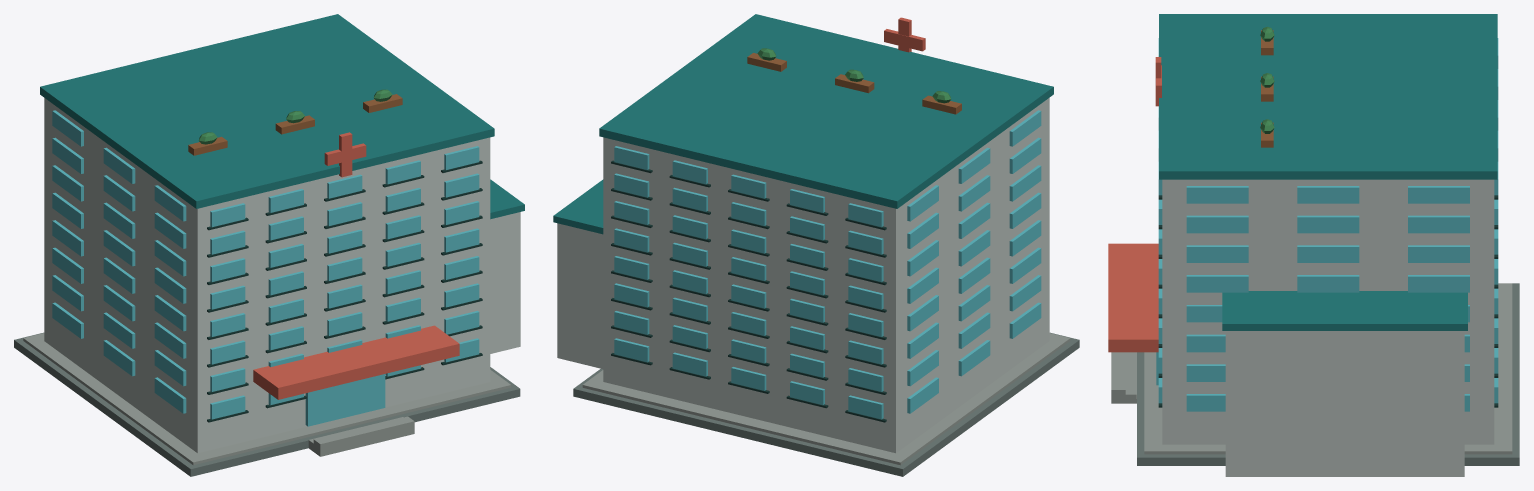
File: hospital_lv3.glb
3 renders of one model, left to right at view 1: azimuth 30°, elevation 25°; view 2: azimuth 150°, elevation 25°; view 3: azimuth 270°, elevation 25°, orthographic. The views are drawn at different scales.
Visible parts, largest first — view 1: rough, glossy; view 2: rough, glossy; view 3: rough, glossy.
Boxes of the visible parts, x1,y1,x2,y2 form: rough: (14, 14, 524, 476); glossy: (52, 110, 479, 426); rough: (553, 14, 1079, 476); glossy: (614, 110, 1041, 419); rough: (1108, 14, 1519, 476); glossy: (1156, 38, 1498, 411).
Size of the model in its own units: 11.1 by 8.38 by 9.78.
